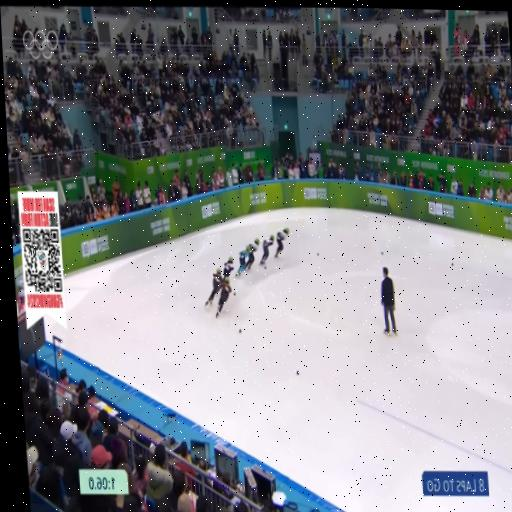Skater: (215, 278, 231, 317), (205, 269, 221, 306), (259, 235, 274, 265), (235, 246, 249, 277), (244, 238, 258, 269), (274, 228, 288, 257), (223, 258, 233, 277)
